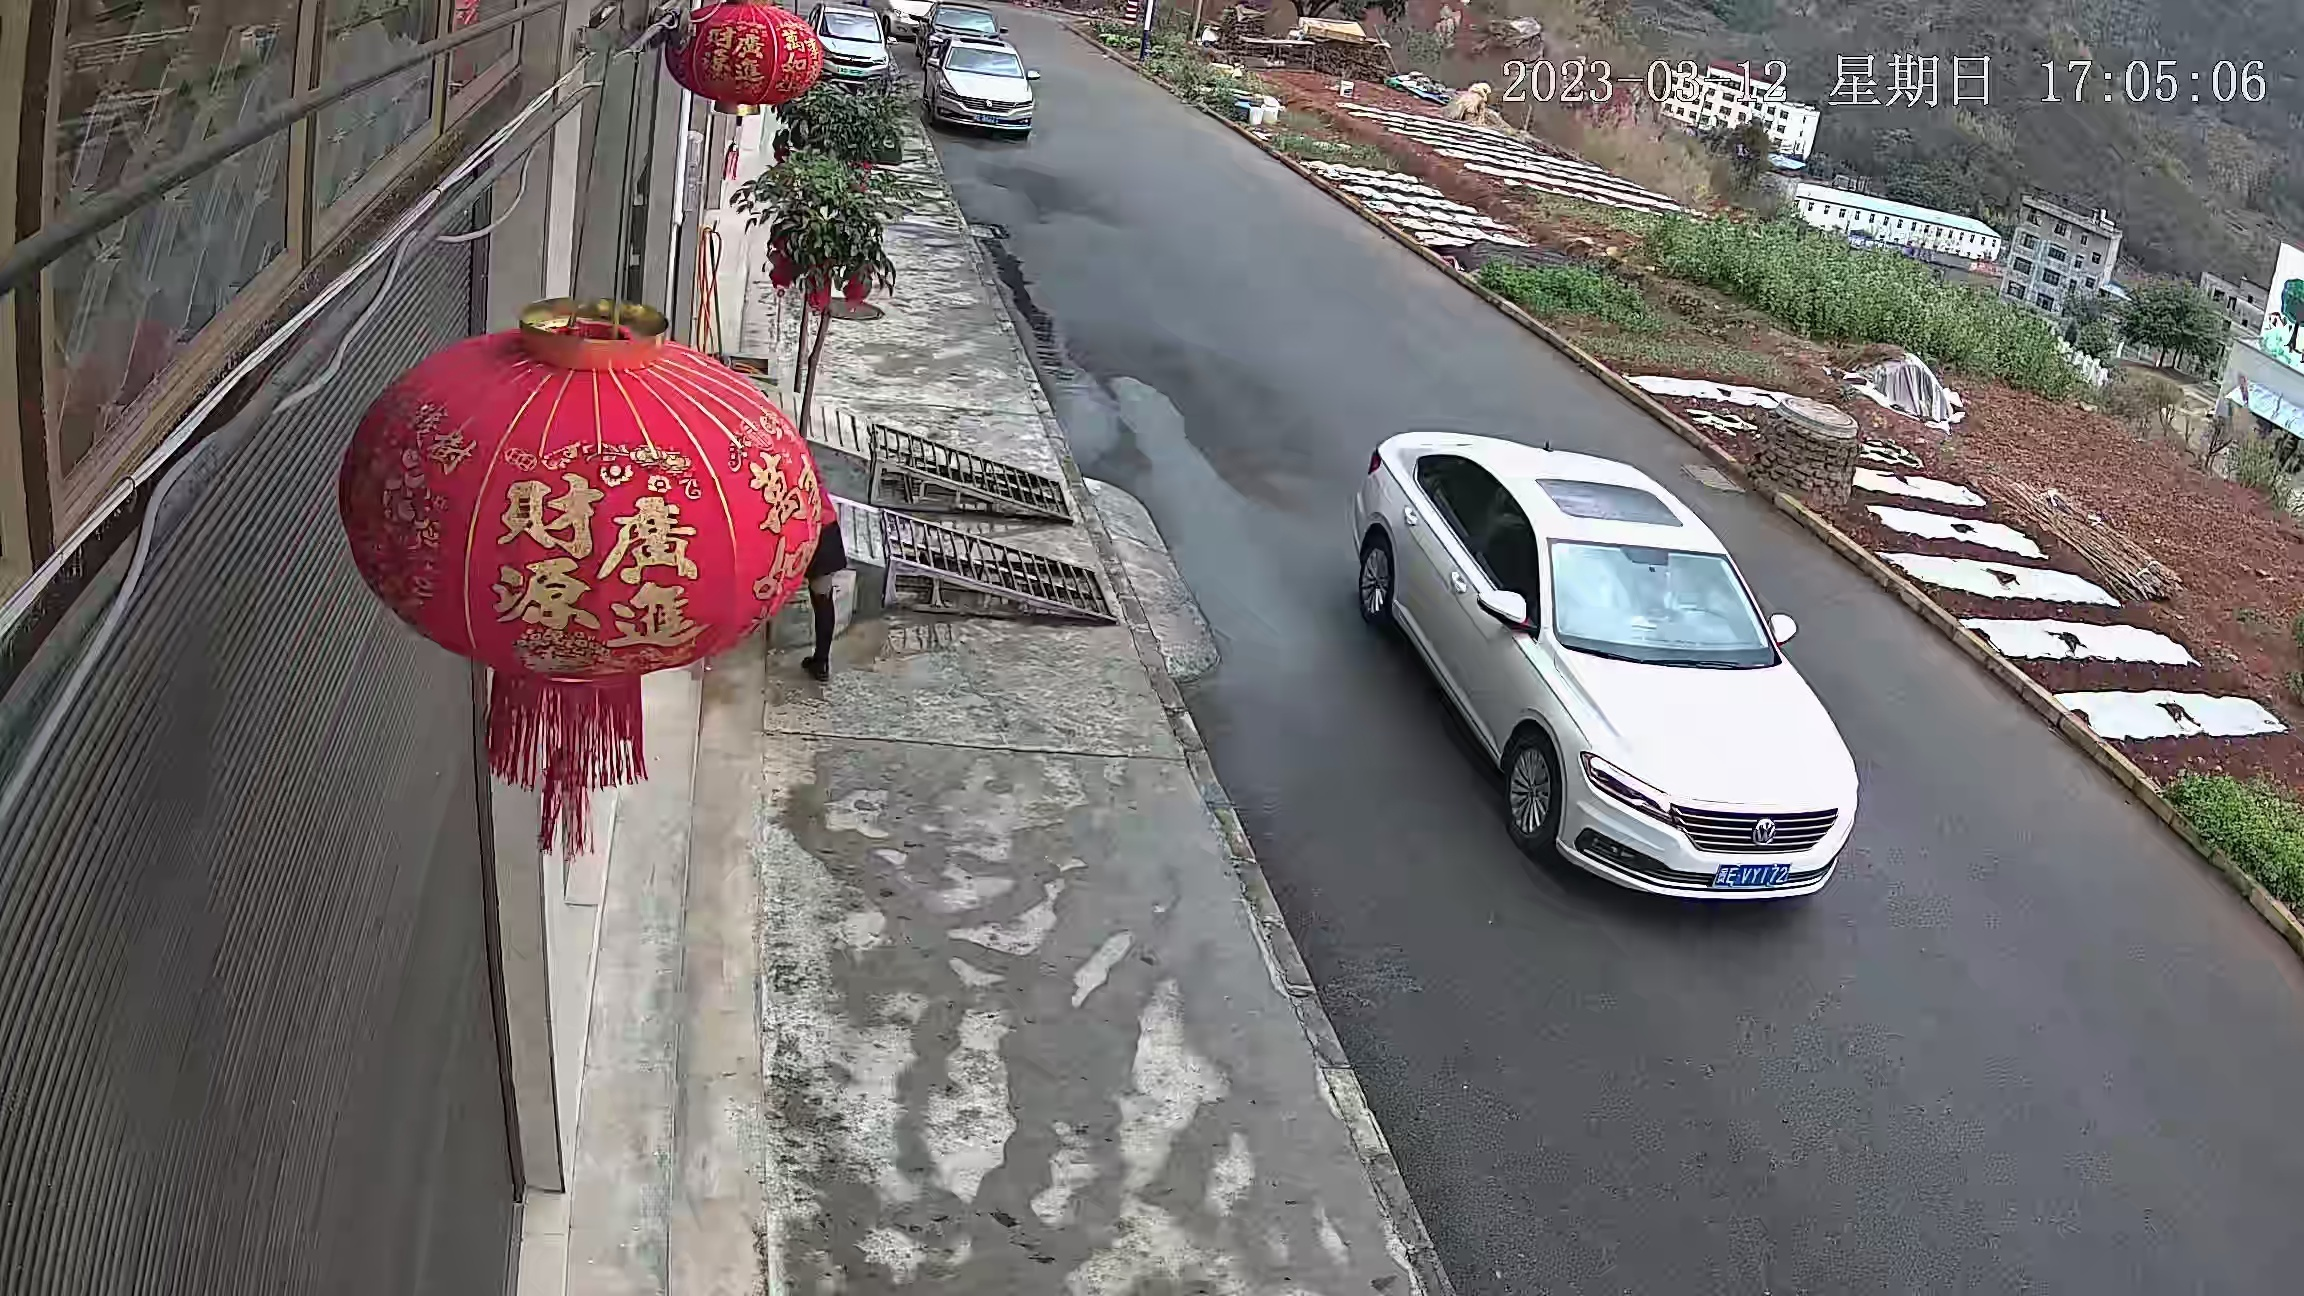person: (804, 481, 851, 688)
sedan: (1340, 432, 1869, 916), (925, 33, 1036, 138), (807, 6, 895, 95), (919, 6, 994, 43)
